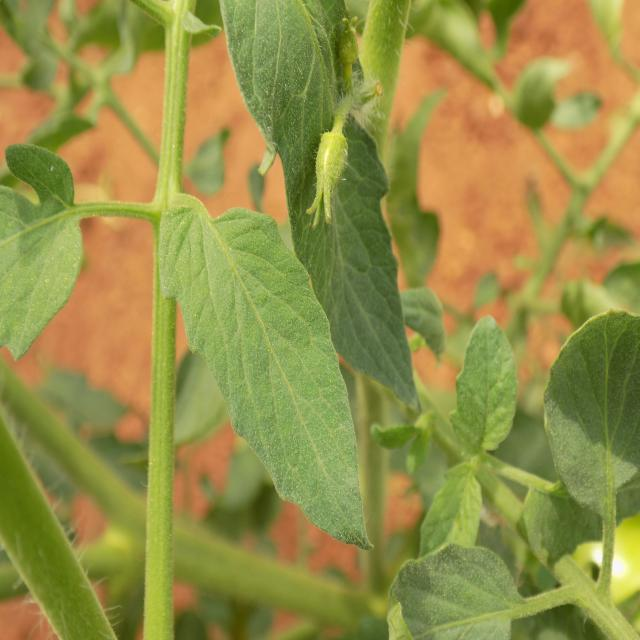tomato_healthy: (164, 191, 368, 544), (281, 86, 419, 406)
